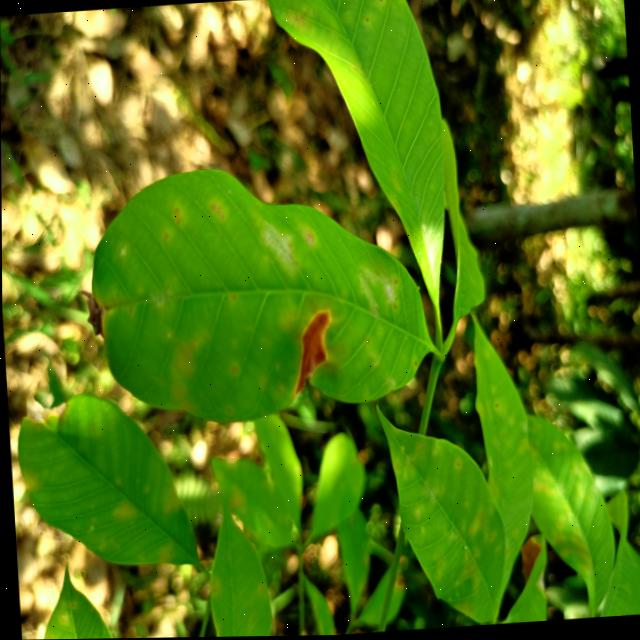Leaf-Blight: (290, 310, 333, 395)
